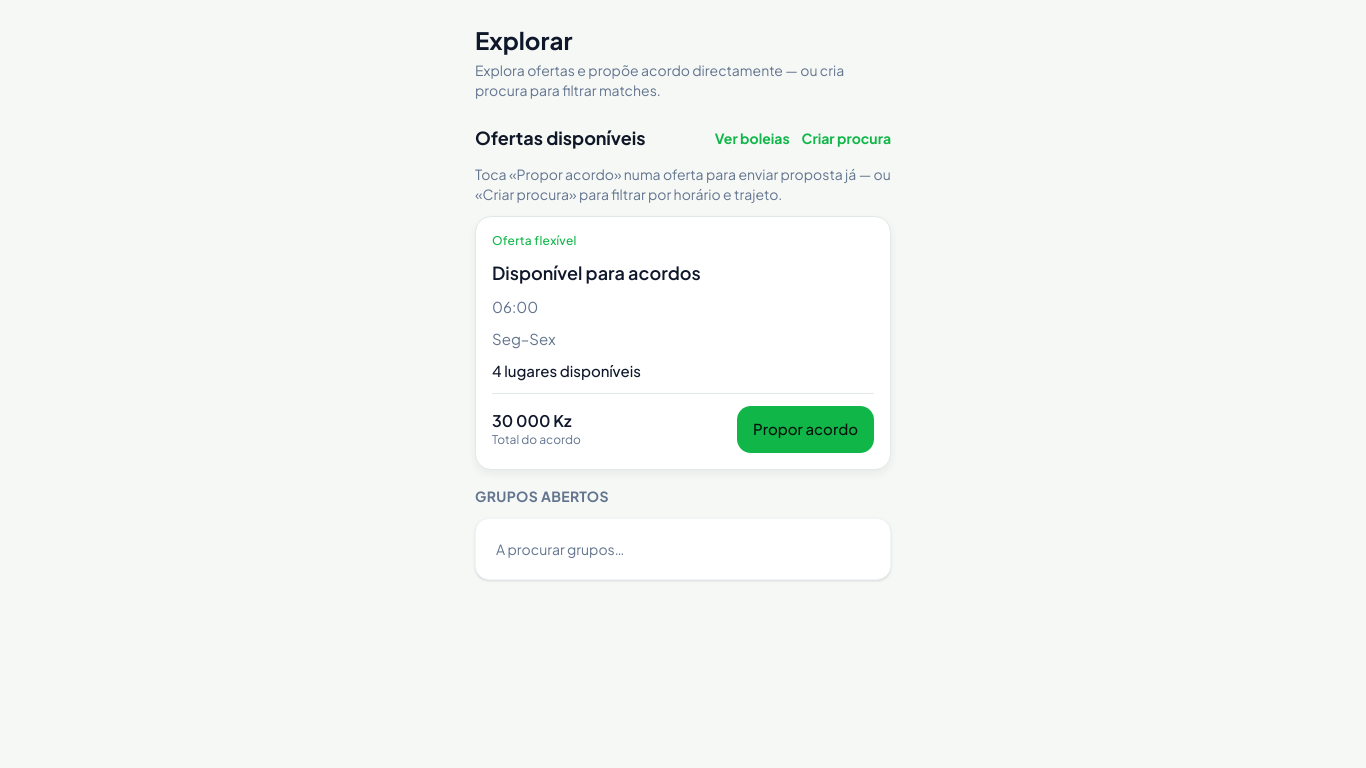
Test: PassengerDashboard — marketplace › explorar autenticado em total do acordo mostra um preço e não multiplica por N
The width and height of the screenshot is (1366, 768).
Check: the text "Disponível para acordos" is shown, box [492, 261, 701, 285]
Check: the text "Total do acordo" is shown, box [492, 432, 581, 448]
Click the button "Propor acordo": {"x": 806, "y": 429} [737, 406, 874, 452]
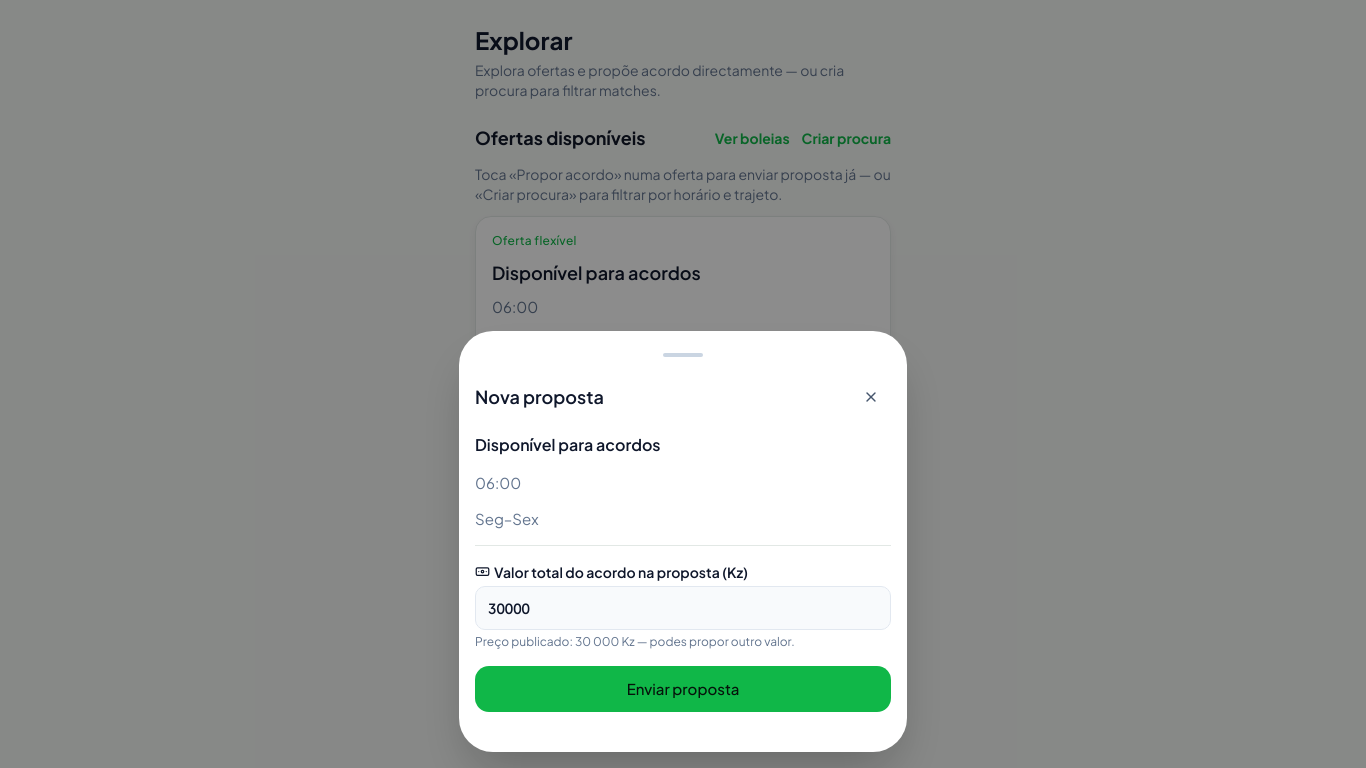
Check: the element with test id "opportunity-proposal-sheet" shows "Nova proposta", box [475, 384, 604, 408]
Check: the element with test id "opportunity-proposal-sheet" shows "Disponível para acordos", box [475, 434, 660, 454]
Check: the number field labelled "Valor total do acordo na proposta" holds "30000", box [475, 586, 891, 630]
